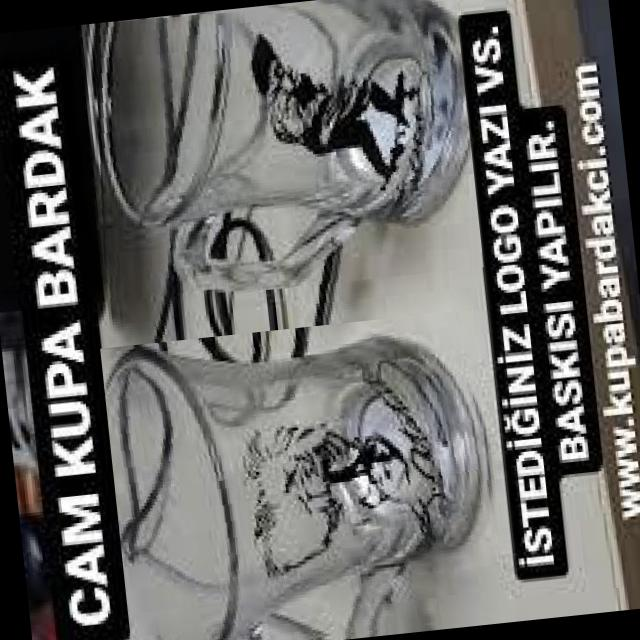Glass: (99, 307, 509, 640), (76, 0, 483, 305)
